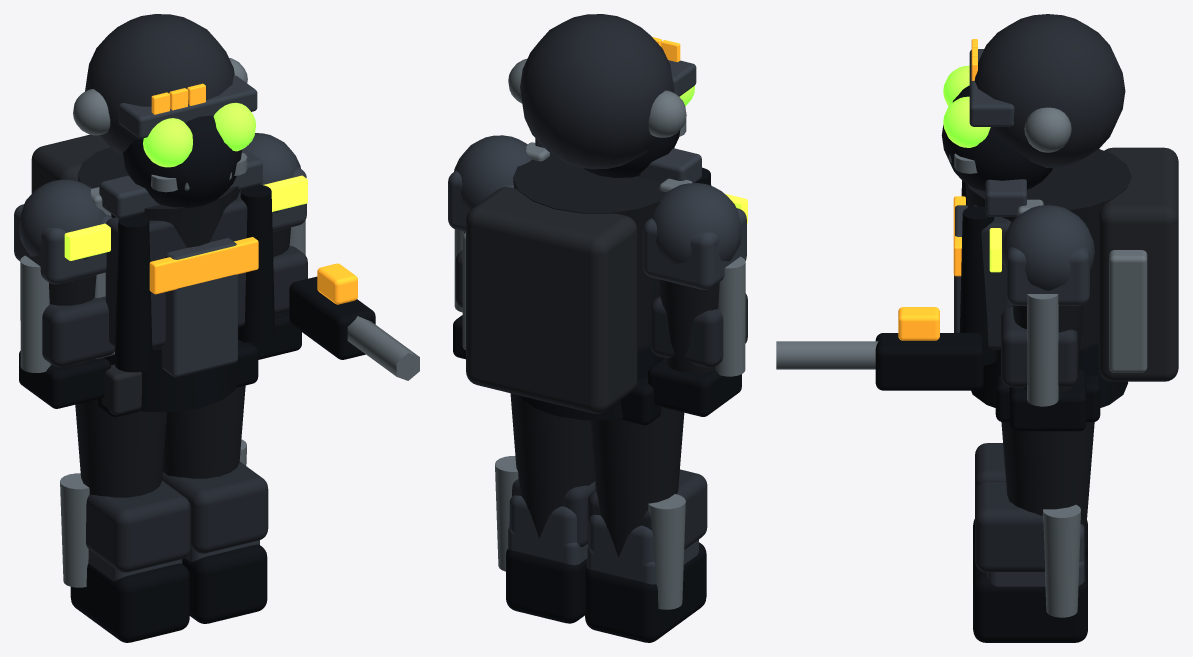
File: assault_l03.glb
3 renders of one model, left to right at view 1: azimuth 30°, elevation 25°; view 2: azimuth 150°, elevation 25°; view 3: azimuth 270°, elevation 25°, orthographic. The views are drawn at different scales.
Parts seen in each view (by area): view 1: shaped_knee_guard (×2), trouser (×2), boot (×2), rounded_helmet, vest_tether (×2), front_plate, shoulder_joint (×2), enclosed_mask, forearm_plate (×2), segmented_vest, glove (×2), carbine_body (+19 smaller); view 2: field_pack, rounded_helmet, trouser (×2), boot (×2), shoulder_joint (×2), body, shin_frame (×2), knee_plate (×2), shoulder_plate (×2), glove, shaped_knee_guard (×2), sleeve (+10 smaller); view 3: rounded_helmet, field_pack, trouser, shaped_knee_guard (×2), body, carbine_body, boot, shoulder_joint, spare_magazine, shin_frame, forearm_seam, vest_tether (+18 smaller).
Part boxes in pixels (x1,y1,x2,y2): shaped_knee_guard (×2): (86,461,268,572); trouser (×2): (75,385,245,497); boot (×2): (70,544,267,642); rounded_helmet: (85,14,234,155); vest_tether (×2): (114,184,274,372); front_plate: (162,238,237,377); shoulder_joint (×2): (18,133,300,259); enclosed_mask: (123,115,242,207); forearm_plate (×2): (42,246,307,367); segmented_vest: (105,190,247,347); glove (×2): (19,311,301,408); carbine_body: (289,276,375,359); field_pack: (466,187,637,413); rounded_helmet: (520,14,674,169); trouser (×2): (510,393,684,557); boot (×2): (506,542,706,642); shoulder_joint (×2): (454,135,741,264); body: (513,156,665,348); shin_frame (×2): (495,456,685,609); knee_plate (×2): (509,495,654,581); shoulder_plate (×2): (448,170,746,289); glove: (648,357,741,416); shaped_knee_guard (×2): (512,469,707,549); sleeve: (659,279,719,373); rounded_helmet: (974,14,1125,167); field_pack: (1098,147,1178,381); trouser: (1001,422,1094,546); shaped_knee_guard (×2): (975,443,1044,572); body: (965,149,1131,348); carbine_body: (875,333,983,390); boot: (973,555,1087,642); shoulder_joint: (1002,205,1094,290); spare_magazine: (1109,250,1147,372); shin_frame: (1043,504,1080,617); forearm_seam: (1027,294,1058,406); vest_tether: (959,206,997,365).
Size of the model in its own units: 0.9406 by 1.87 by 1.16.
